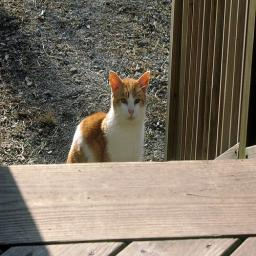catnose: (128, 109, 134, 115)
